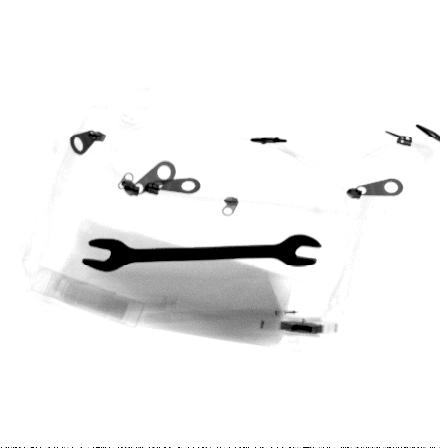Wrench: (81, 233, 323, 275)
